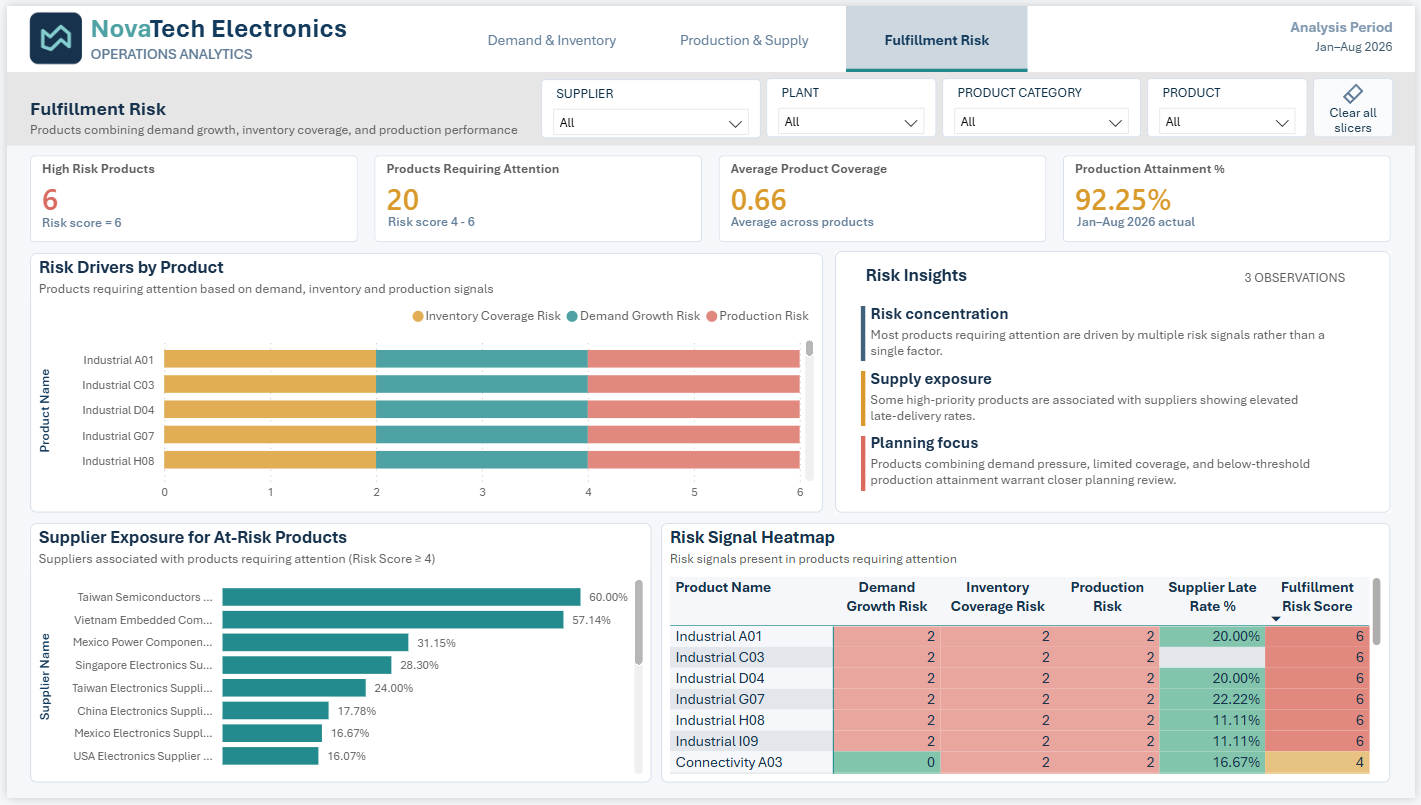

What the dashboard file says about the page in this screenshot:
{"tool":"powerbi","page":{"name":"Fulfillment Risk","canvas":[1280,720],"ordinal":2},"visuals":[{"type":"shape","title":"barra blanca","box":[0,0,1280,60],"z":0},{"type":"cardVisual","title":"Fulfillment Risk","fields":{"Data":["_measures.High Risk Products","_measures.Products Requiring Attention","_measures.Average Product Coverage","_measures.Production Attainment %"]},"box":[21,83,1237.9,132.6],"z":0,"group":"g2"},{"type":"shape","title":"forma insigths","box":[753,223,505,238],"z":0,"group":"g1"},{"type":"shape","title":"barra gris","box":[0,60,1280,67],"z":1000},{"type":"textbox","box":[32,190,278.9,16],"z":1000,"group":"g2"},{"type":"shape","box":[771.6,272.9,14.6,50],"z":1000,"group":"g1"},{"type":"textbox","box":[346.6,189.8,278.9,16],"z":2000,"group":"g2"},{"type":"group","id":"g1","title":"insigths3","box":[753,223,505,238],"z":2000},{"type":"shape","box":[771.2,390.9,14.8,50],"z":2000,"group":"g1"},{"type":"pageNavigator","box":[412.5,0,516.7,60],"z":3000},{"type":"textbox","box":[658.7,189.8,278.9,16],"z":3000,"group":"g2"},{"type":"shape","box":[771.2,331.9,14.8,50],"z":3000,"group":"g1"},{"type":"textbox","title":"titulo reporte","box":[71,0,262.4,60.3],"z":4000},{"type":"textbox","box":[972.6,189.8,278.9,16],"z":4000,"group":"g2"},{"type":"textbox","title":"Planning focus","box":[780.6,388.8,445.9,55],"z":4000,"group":"g1"},{"type":"textbox","title":"Analysis Period","box":[1146.7,10.7,113.3,38.7],"z":5000},{"type":"textbox","title":"Supply exposure","box":[780.3,330.2,445.9,55],"z":5000,"group":"g1"},{"type":"image","title":"logo","box":[15.9,4.1,59.7,51.4],"z":6000},{"type":"textbox","title":"Risk concentration","box":[780.3,271.6,445.9,55],"z":6000,"group":"g1"},{"type":"group","id":"g2","title":"kpis","box":[21,83,1237.9,132.6],"z":7000},{"type":"textbox","box":[1040.1,235,181.7,23.3],"z":7000,"group":"g1"},{"type":"slicer","title":"SUPPLIER filtro","fields":{"Values":["dim_supplier.supplier_name"]},"box":[485,66,200,54],"z":8000},{"type":"textbox","title":"Risk Insights","box":[775.5,235,181.7,23.3],"z":8000,"group":"g1"},{"type":"slicer","title":"PLANT","fields":{"Values":["dim_plant.plant_name"]},"box":[690.1,65.7,155,54],"z":9000},{"type":"slicer","title":"PRODUCT","fields":{"Values":["dim_product.product_name"]},"box":[1036.2,65.7,146,54],"z":10000},{"type":"slicer","title":"PRODUCT CATEGORY","fields":{"Values":["dim_product.product_category"]},"box":[850.2,65.8,180.9,53.6],"z":11000},{"type":"actionButton","box":[1187.3,65.6,72.9,54.1],"z":12000},{"type":"barChart","title":"Risk Drivers by Product","fields":{"Category":["dim_product.product_name"],"Y":["_measures.Inventory Coverage Risk","_measures.Demand Growth Risk","_measures.Production Risk"]},"box":[20.6,224.1,720.7,236.5],"z":13000},{"type":"barChart","title":"Supplier Exposure for At-Risk Products","fields":{"Category":["dim_supplier.supplier_name"],"Y":["_measures.Supplier Late Rate %"]},"box":[20.6,469.8,565.5,236.5],"z":14000},{"type":"pivotTable","title":"Risk Signal Heatmap","fields":{"Rows":["dim_product.product_name"],"Values":["_measures.Demand Growth Risk","_measures.Inventory Coverage Risk","_measures.Production Risk","_measures.Supplier Late Rate %","_measures.Fulfillment Risk Score"]},"box":[594.2,469.8,663.1,236.5],"z":15000}]}

Visuals, with their boxes in screenshot pixels (x1, y1, x2, y2), scaled from the page's 1280x720 canvas onto the 1421x805 screenshot:
"barra blanca" shape: [x1=0, y1=0, x2=1420, y2=67]
"Fulfillment Risk" cardVisual: [x1=23, y1=93, x2=1398, y2=241]
"forma insigths" shape: [x1=836, y1=249, x2=1397, y2=515]
"barra gris" shape: [x1=0, y1=67, x2=1420, y2=142]
textbox: [x1=36, y1=212, x2=345, y2=230]
shape: [x1=857, y1=305, x2=873, y2=361]
textbox: [x1=385, y1=212, x2=694, y2=230]
"insigths3" group: [x1=836, y1=249, x2=1397, y2=515]
shape: [x1=856, y1=437, x2=873, y2=493]
pageNavigator: [x1=458, y1=0, x2=1032, y2=67]
textbox: [x1=731, y1=212, x2=1041, y2=230]
shape: [x1=856, y1=371, x2=873, y2=427]
"titulo reporte" textbox: [x1=79, y1=0, x2=370, y2=67]
textbox: [x1=1080, y1=212, x2=1389, y2=230]
"Planning focus" textbox: [x1=867, y1=435, x2=1362, y2=496]
"Analysis Period" textbox: [x1=1273, y1=12, x2=1399, y2=55]
"Supply exposure" textbox: [x1=866, y1=369, x2=1361, y2=431]
"logo" image: [x1=18, y1=5, x2=84, y2=62]
"Risk concentration" textbox: [x1=866, y1=304, x2=1361, y2=365]
"kpis" group: [x1=23, y1=93, x2=1398, y2=241]
textbox: [x1=1155, y1=263, x2=1356, y2=289]
"SUPPLIER filtro" slicer: [x1=538, y1=74, x2=760, y2=134]
"Risk Insights" textbox: [x1=861, y1=263, x2=1063, y2=289]
"PLANT" slicer: [x1=766, y1=73, x2=938, y2=134]
"PRODUCT" slicer: [x1=1150, y1=73, x2=1312, y2=134]
"PRODUCT CATEGORY" slicer: [x1=944, y1=74, x2=1145, y2=133]
actionButton: [x1=1318, y1=73, x2=1399, y2=134]
"Risk Drivers by Product" barChart: [x1=23, y1=251, x2=823, y2=515]
"Supplier Exposure for At-Risk Products" barChart: [x1=23, y1=525, x2=651, y2=790]
"Risk Signal Heatmap" pivotTable: [x1=660, y1=525, x2=1396, y2=790]
